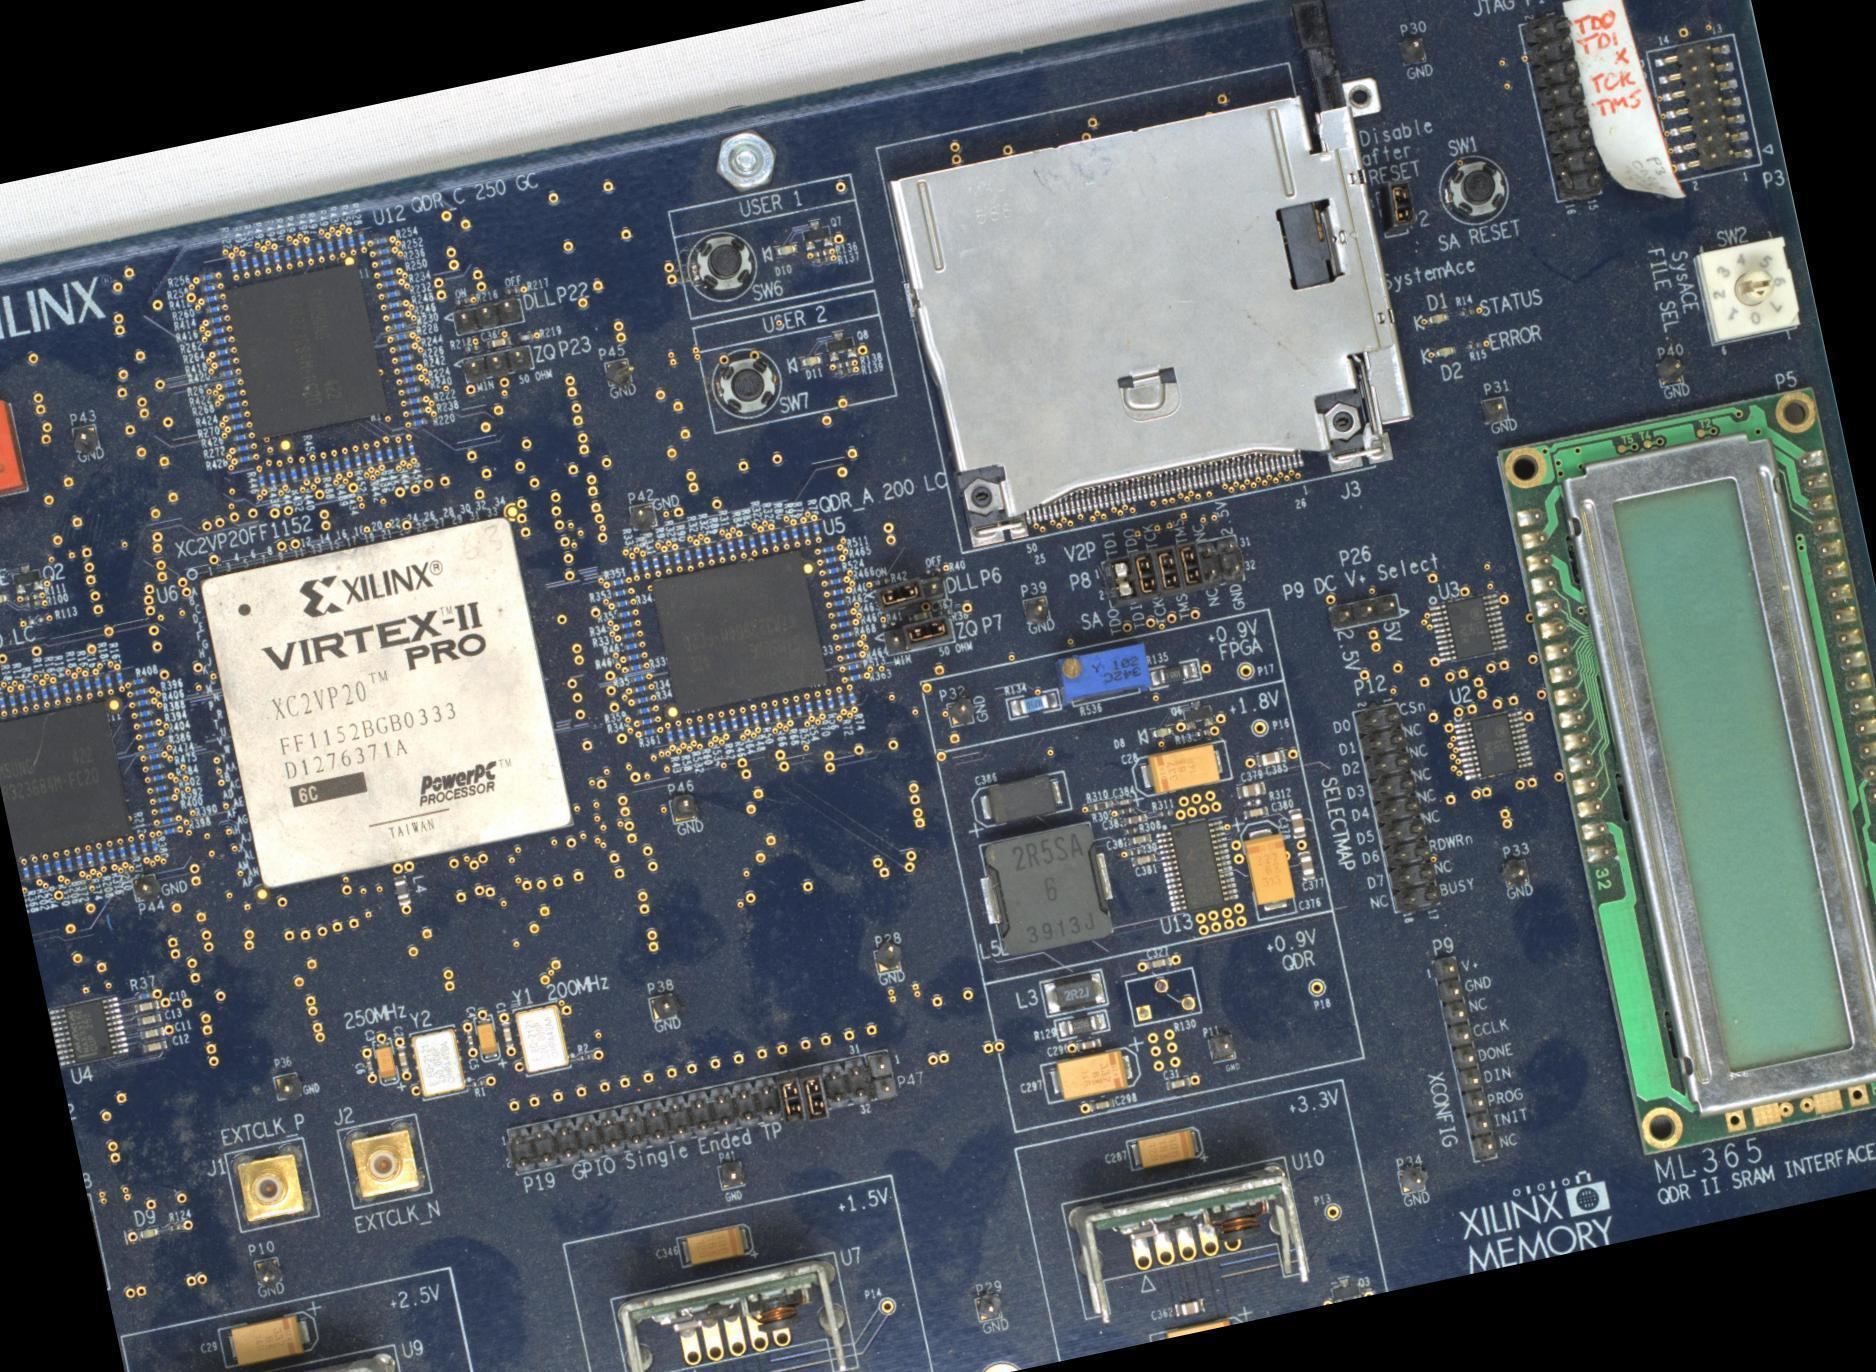Button: (678, 224, 764, 310), (703, 340, 789, 426), (1430, 148, 1515, 232)
Capacitor: (1296, 850, 1316, 882), (1173, 1297, 1205, 1318), (1255, 749, 1286, 769), (1287, 807, 1306, 839), (1235, 780, 1266, 800), (140, 1039, 167, 1054), (1145, 956, 1172, 971), (1164, 1077, 1191, 1092), (1087, 1097, 1114, 1113), (1076, 1037, 1103, 1053), (394, 1044, 409, 1072), (132, 999, 159, 1014), (138, 1026, 164, 1040), (1129, 853, 1156, 867), (500, 1020, 513, 1047), (486, 335, 511, 349), (1242, 805, 1269, 819), (1128, 833, 1152, 846), (907, 610, 931, 624), (135, 1013, 161, 1026), (1125, 812, 1148, 825), (465, 1031, 474, 1048), (1115, 798, 1132, 807), (364, 1058, 373, 1074)
Connector: (868, 45, 1423, 559), (506, 1072, 783, 1178), (1351, 701, 1441, 915), (1645, 31, 1763, 183), (1516, 13, 1601, 204), (1429, 954, 1497, 1164), (335, 1110, 435, 1212), (222, 1136, 320, 1234), (820, 1049, 897, 1112), (1125, 969, 1200, 1026), (451, 294, 525, 337), (1326, 592, 1402, 631), (460, 343, 534, 382), (1196, 533, 1244, 588), (1652, 352, 1688, 387), (944, 694, 977, 729), (625, 501, 658, 535), (871, 940, 903, 974), (251, 1255, 283, 1290), (1395, 1162, 1430, 1195), (602, 356, 634, 390), (667, 793, 700, 825), (271, 1071, 304, 1102), (1206, 1029, 1237, 1063), (129, 872, 162, 905), (714, 1159, 746, 1191), (1396, 35, 1427, 67), (1499, 855, 1530, 888), (1021, 594, 1051, 626), (972, 1291, 1004, 1321), (68, 422, 101, 453), (1477, 395, 1508, 425), (647, 992, 679, 1021), (883, 628, 909, 657), (921, 576, 947, 603)
Electrolytic Capacitor: (215, 1306, 323, 1371), (1128, 739, 1233, 800), (967, 769, 1072, 830), (1039, 1044, 1144, 1106), (1236, 817, 1297, 921), (1124, 1123, 1205, 1172), (676, 1220, 756, 1269), (1147, 1313, 1246, 1342), (472, 1013, 501, 1062), (371, 1038, 400, 1087)
IC: (197, 514, 575, 892), (650, 550, 827, 715), (225, 260, 389, 438), (0, 699, 133, 860), (1153, 814, 1239, 916), (47, 993, 130, 1069), (1453, 707, 1533, 782), (1427, 591, 1508, 664)
Inductor: (972, 819, 1119, 959), (391, 874, 411, 905)
Led: (772, 241, 798, 259), (1148, 724, 1173, 741), (137, 1225, 160, 1241), (1424, 311, 1449, 326), (1432, 345, 1458, 359), (799, 354, 823, 368), (0, 591, 10, 608)
Pads: (1244, 797, 1262, 810), (26, 614, 45, 627), (923, 565, 941, 575), (880, 620, 896, 630)
Resistor: (1037, 967, 1108, 1018), (1003, 687, 1063, 721), (1052, 1008, 1112, 1042), (1147, 657, 1202, 690), (1088, 799, 1114, 813), (334, 235, 345, 254), (388, 309, 405, 320), (81, 675, 92, 694), (139, 838, 148, 856), (84, 851, 94, 869), (313, 239, 324, 258), (320, 458, 330, 476), (395, 443, 405, 461), (835, 366, 853, 376), (650, 553, 660, 571), (28, 686, 38, 703), (6, 692, 16, 709), (38, 685, 48, 702), (70, 678, 80, 696), (61, 680, 71, 697), (103, 672, 113, 689), (611, 587, 628, 597), (615, 609, 632, 619), (625, 652, 642, 662), (635, 705, 653, 715), (53, 857, 62, 874), (106, 846, 116, 863), (117, 844, 126, 861), (31, 862, 41, 879), (686, 723, 696, 740), (771, 705, 780, 722), (707, 718, 717, 736), (824, 693, 834, 711), (761, 708, 771, 726), (576, 1052, 593, 1062), (356, 230, 366, 248), (292, 245, 302, 262), (323, 237, 333, 255), (238, 256, 248, 274), (198, 273, 215, 282), (376, 257, 393, 266), (383, 288, 401, 298), (211, 337, 228, 346), (503, 285, 520, 295), (217, 369, 234, 378), (392, 331, 409, 341), (223, 389, 240, 399), (401, 374, 418, 385), (407, 406, 424, 416), (309, 460, 319, 477), (331, 456, 341, 473), (277, 468, 287, 485), (342, 453, 352, 471), (353, 451, 363, 469), (405, 440, 415, 458), (256, 472, 266, 490), (1456, 307, 1474, 318), (517, 332, 532, 343), (662, 551, 671, 569), (608, 577, 626, 586), (146, 762, 164, 771), (63, 854, 72, 872), (22, 864, 31, 882), (267, 468, 276, 486), (288, 465, 297, 483), (363, 449, 371, 467), (715, 540, 725, 556), (704, 543, 713, 560), (640, 556, 650, 573), (757, 531, 767, 548), (790, 524, 799, 541), (17, 690, 27, 706), (822, 554, 838, 563), (826, 576, 842, 585), (623, 641, 639, 651), (936, 608, 952, 617), (837, 629, 853, 639), (157, 805, 173, 815), (158, 816, 174, 826), (718, 716, 728, 733), (792, 701, 802, 717), (135, 991, 152, 1001), (1118, 805, 1135, 815), (1127, 846, 1143, 856), (166, 1222, 182, 1232), (270, 249, 280, 265), (227, 258, 237, 274), (249, 253, 259, 270), (281, 247, 291, 264), (305, 242, 314, 258), (371, 236, 387, 246), (373, 245, 389, 255), (379, 266, 395, 277), (381, 278, 397, 288), (386, 299, 402, 309), (390, 320, 407, 331), (216, 358, 232, 368), (397, 353, 413, 363), (403, 384, 420, 394), (405, 395, 421, 405), (409, 416, 426, 427), (834, 359, 851, 369), (1465, 341, 1482, 351), (629, 558, 638, 576), (671, 549, 680, 567), (800, 522, 809, 539), (49, 683, 58, 700), (780, 527, 789, 544), (92, 673, 101, 691), (114, 668, 123, 686), (129, 677, 147, 686), (131, 687, 149, 696), (619, 630, 636, 640), (150, 773, 167, 782), (152, 784, 169, 793), (841, 650, 858, 659), (844, 662, 861, 671), (637, 716, 654, 725), (160, 826, 177, 835), (639, 727, 657, 736), (96, 848, 105, 865), (128, 841, 137, 858), (74, 852, 83, 869), (814, 696, 823, 713), (149, 837, 158, 855), (729, 714, 738, 731), (804, 698, 813, 715), (697, 721, 706, 739), (750, 710, 759, 727), (835, 691, 844, 708), (740, 712, 749, 730), (345, 233, 354, 251), (204, 304, 221, 313), (453, 296, 470, 305), (812, 249, 829, 258), (220, 379, 237, 388), (814, 256, 831, 265), (399, 363, 416, 372), (233, 443, 250, 452), (298, 463, 307, 480), (374, 447, 383, 465), (384, 444, 393, 462), (874, 576, 889, 586), (833, 608, 848, 618), (675, 727, 684, 742), (1123, 825, 1138, 835), (394, 342, 410, 352), (237, 452, 252, 462), (746, 533, 755, 549), (683, 547, 692, 564), (768, 529, 777, 545), (811, 520, 820, 536), (819, 544, 835, 554), (134, 698, 150, 707), (614, 598, 631, 608), (824, 566, 840, 576), (139, 719, 155, 728), (617, 620, 634, 629), (141, 730, 158, 739), (829, 587, 845, 596), (143, 741, 159, 750), (145, 751, 161, 761), (626, 662, 643, 671), (629, 674, 645, 683), (631, 684, 647, 693), (155, 794, 171, 803), (633, 695, 649, 704), (848, 673, 864, 682), (42, 859, 51, 876), (783, 703, 792, 720), (665, 728, 674, 744), (847, 690, 856, 707), (1194, 729, 1210, 738), (470, 1078, 486, 1087), (260, 250, 270, 267), (201, 284, 217, 293), (203, 294, 218, 303), (207, 315, 223, 324), (209, 326, 225, 335), (214, 347, 230, 356), (463, 344, 479, 353), (224, 400, 241, 409), (227, 411, 243, 420), (229, 422, 245, 431), (232, 432, 248, 442), (22, 593, 38, 602), (23, 600, 40, 609), (693, 544, 702, 560), (735, 536, 745, 551), (725, 539, 734, 554), (136, 709, 153, 717), (831, 598, 846, 607), (836, 619, 851, 628), (840, 641, 855, 650), (0, 694, 6, 711)
Switch: (0, 395, 30, 509)
Transistor: (797, 215, 834, 252), (822, 327, 856, 362), (9, 561, 43, 595), (1180, 698, 1213, 730), (1328, 1273, 1361, 1303)
